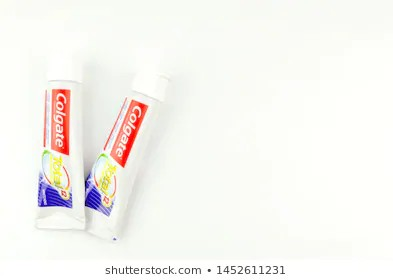colgate-total-150gm: (88, 70, 176, 241), (30, 53, 87, 233)
